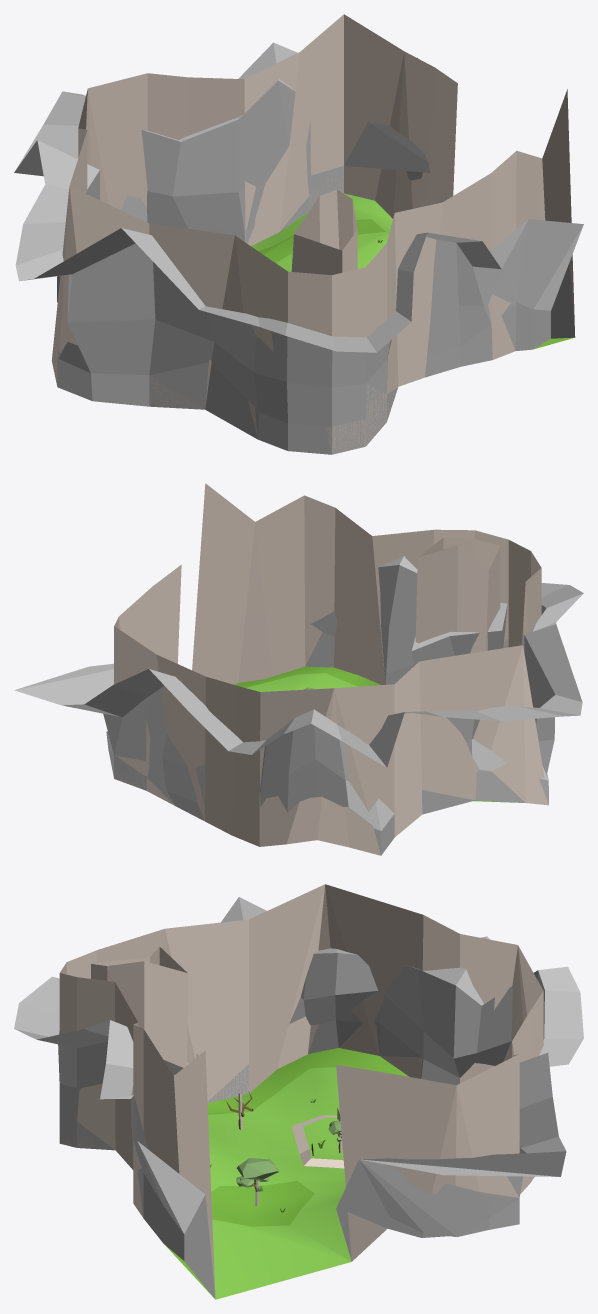
The picture shows the model from 3 angles, top to bottom: view 1: azimuth 30°, elevation 25°; view 2: azimuth 150°, elevation 25°; view 3: azimuth 270°, elevation 25°; orthographic projection. The views are drawn at different scales.
Visible parts, largest first — view 1: level5, simple; view 2: simple, level5; view 3: level5, simple.
Boxes of the visible parts, bbox=[...] form: level5: bbox=[14, 42, 583, 454]; simple: bbox=[51, 14, 575, 454]; simple: bbox=[114, 483, 548, 855]; level5: bbox=[14, 556, 583, 855]; level5: bbox=[14, 897, 583, 1299]; simple: bbox=[59, 884, 543, 1295].
Size of the model in its own units: 73.66 by 33.92 by 71.98.
